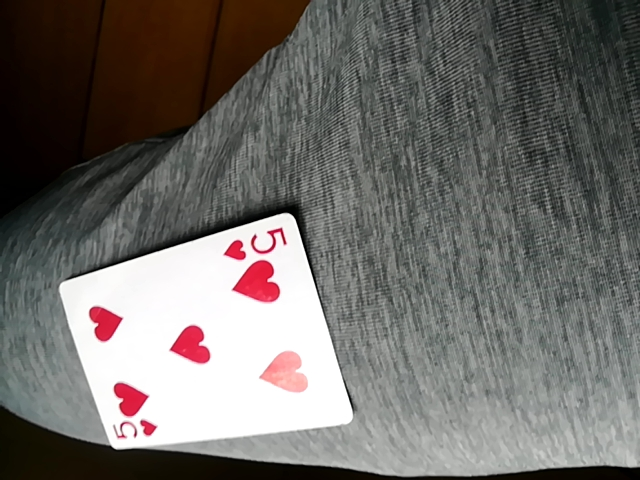hx 5: (58, 214, 350, 454)
